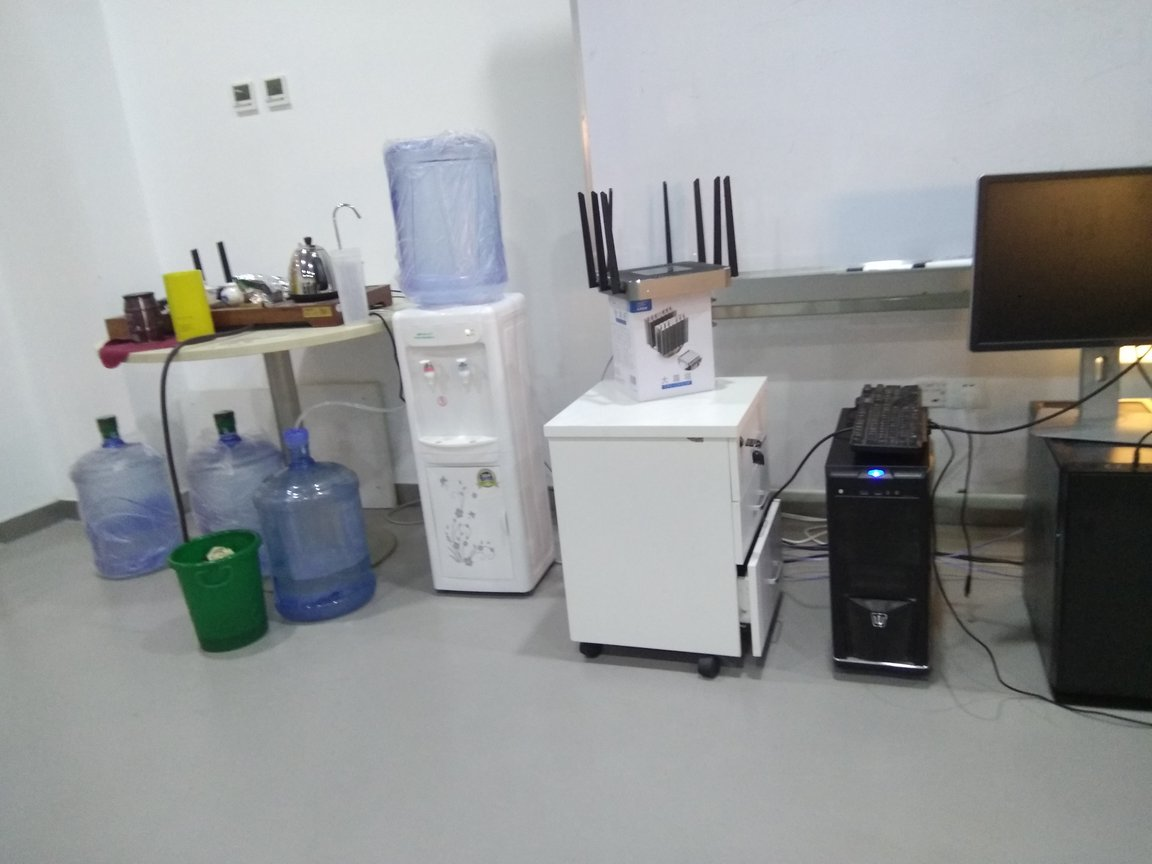computer: (1019, 393, 1152, 714), (820, 401, 946, 693)
drawer chest: (537, 370, 781, 693)
monitor: (964, 154, 1152, 451)
scuttlebutt: (255, 425, 373, 628), (380, 134, 509, 304), (185, 408, 295, 593), (66, 410, 182, 578)
water dispenser: (383, 283, 559, 610)
